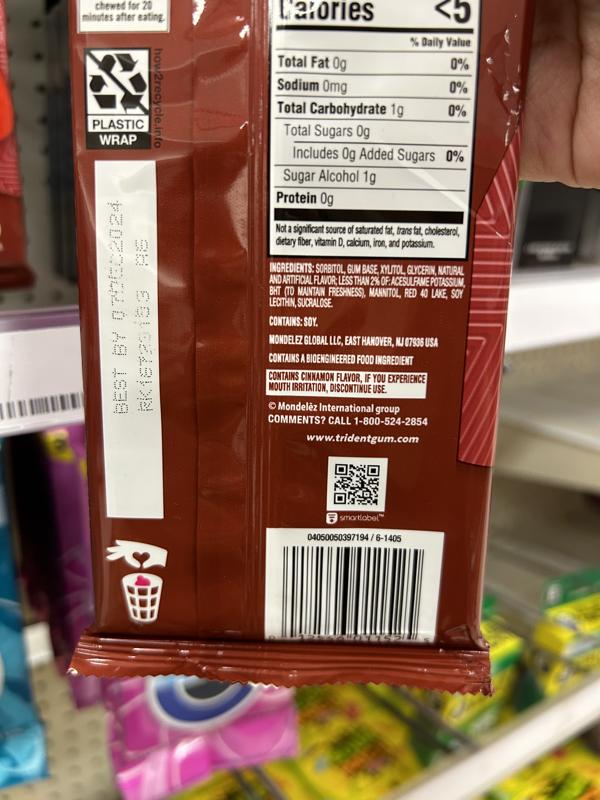ingredients: (267, 260, 467, 310)
